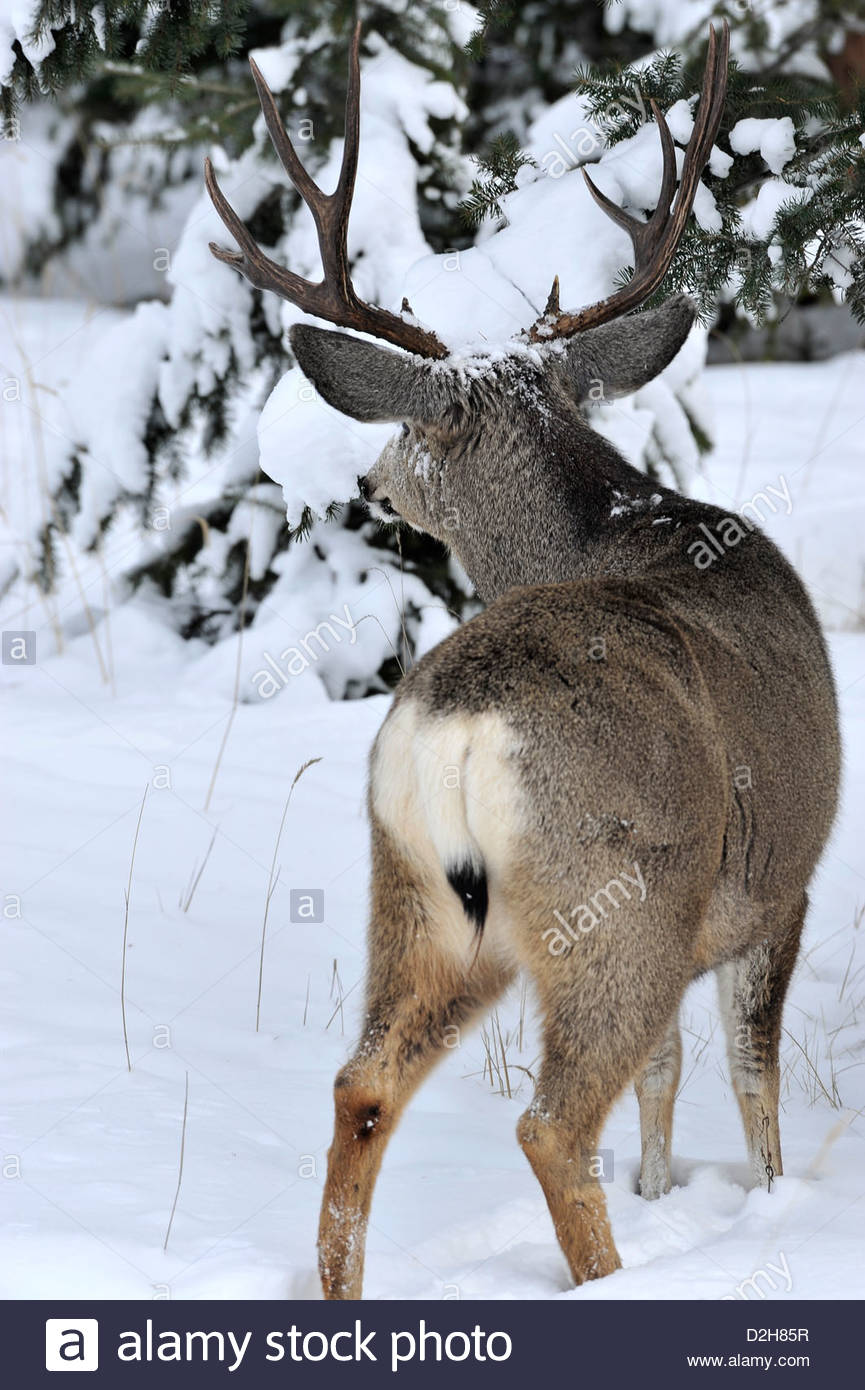Deer: (201, 7, 838, 1300)
